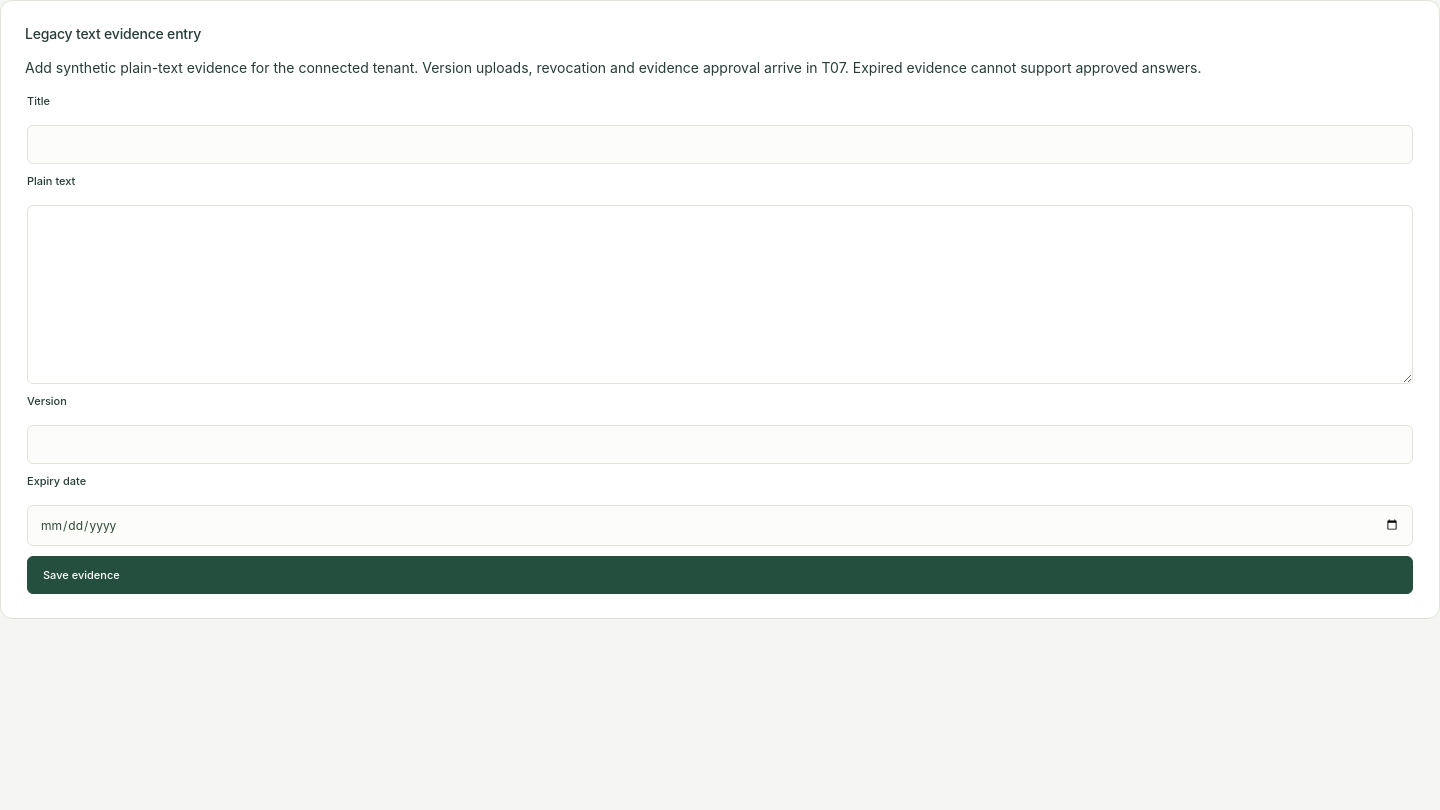
retains evidence on API failure
The image size is (1440, 810).
Type "Policy" into the field labelled "Title". click: (720, 144)
box: [27, 125, 1413, 164]
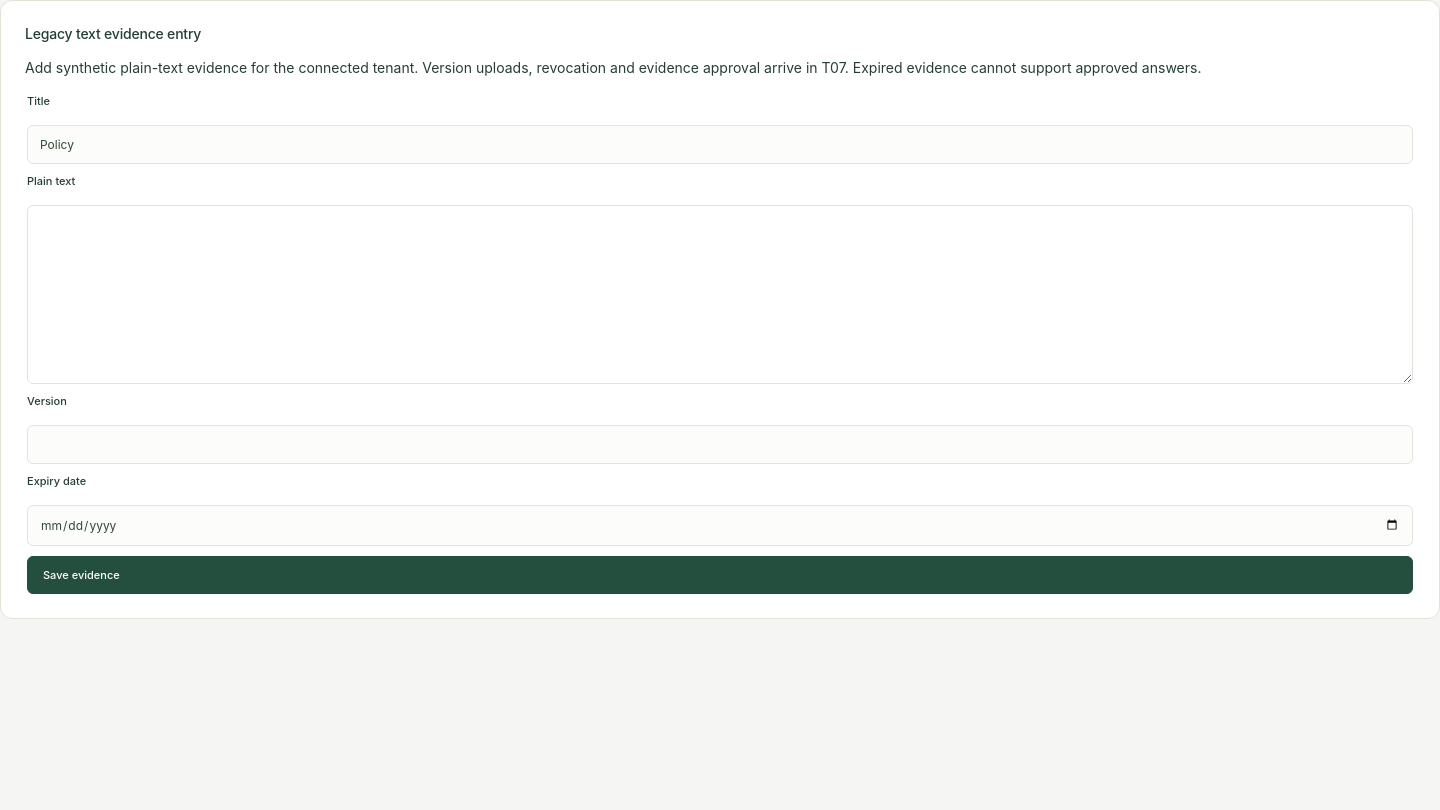
Type "Policy text" into the text box labelled "Plain text". click: (720, 294)
box: [27, 205, 1413, 384]
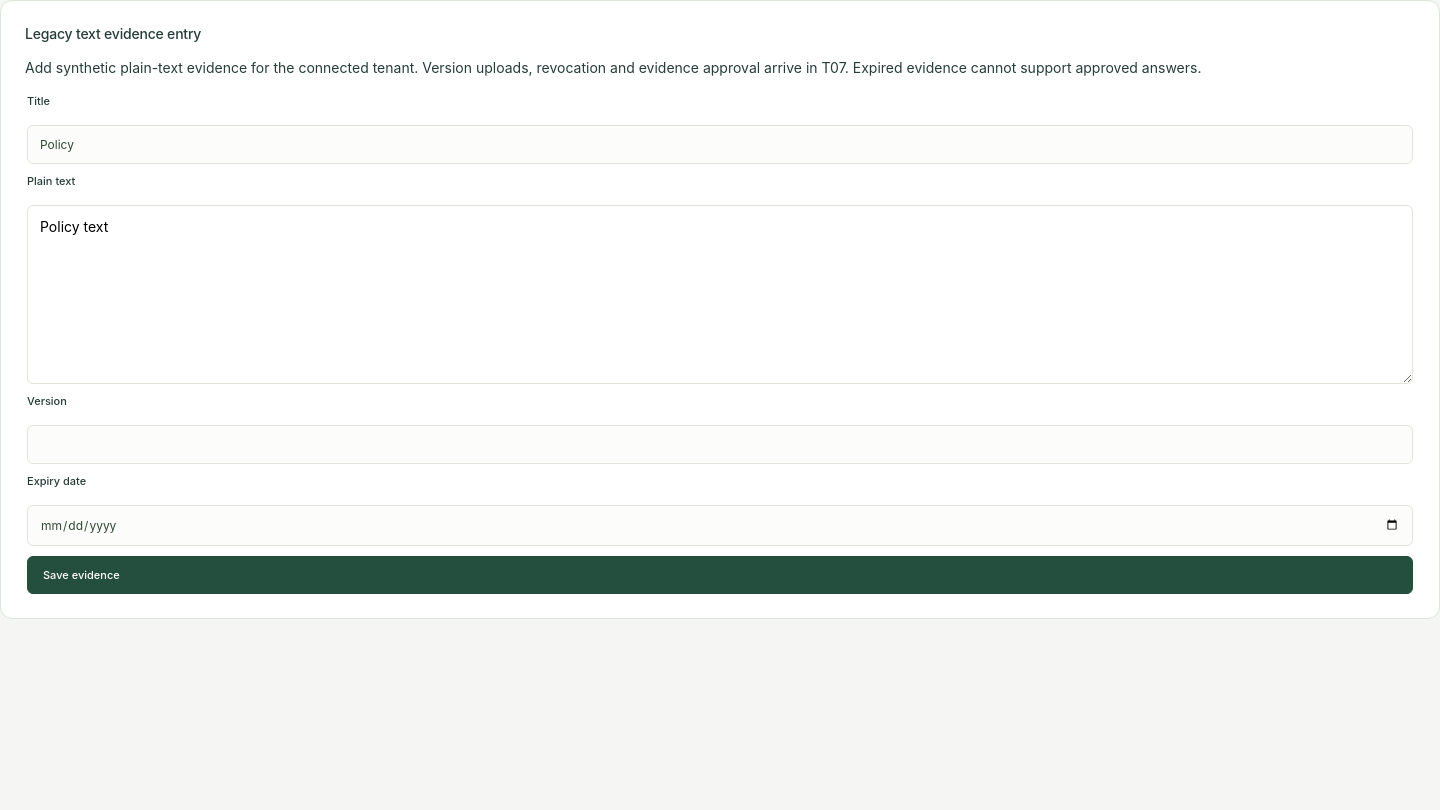
Type "1" into the field labelled "Version". click: (720, 444)
box: [27, 425, 1413, 464]
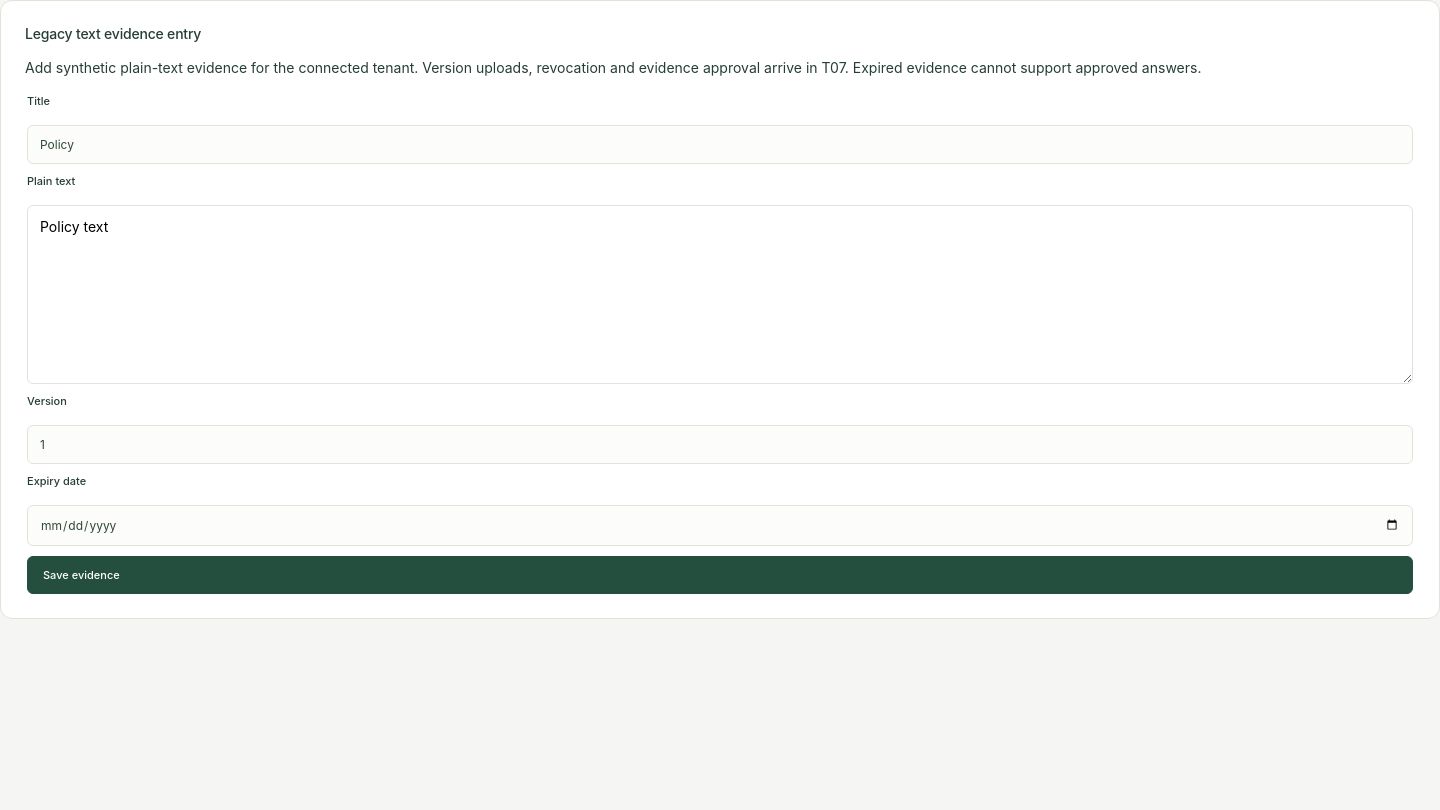
Type "2099-01-01" into the date field labelled "Expiry date". click: (720, 525)
box: [27, 505, 1413, 546]
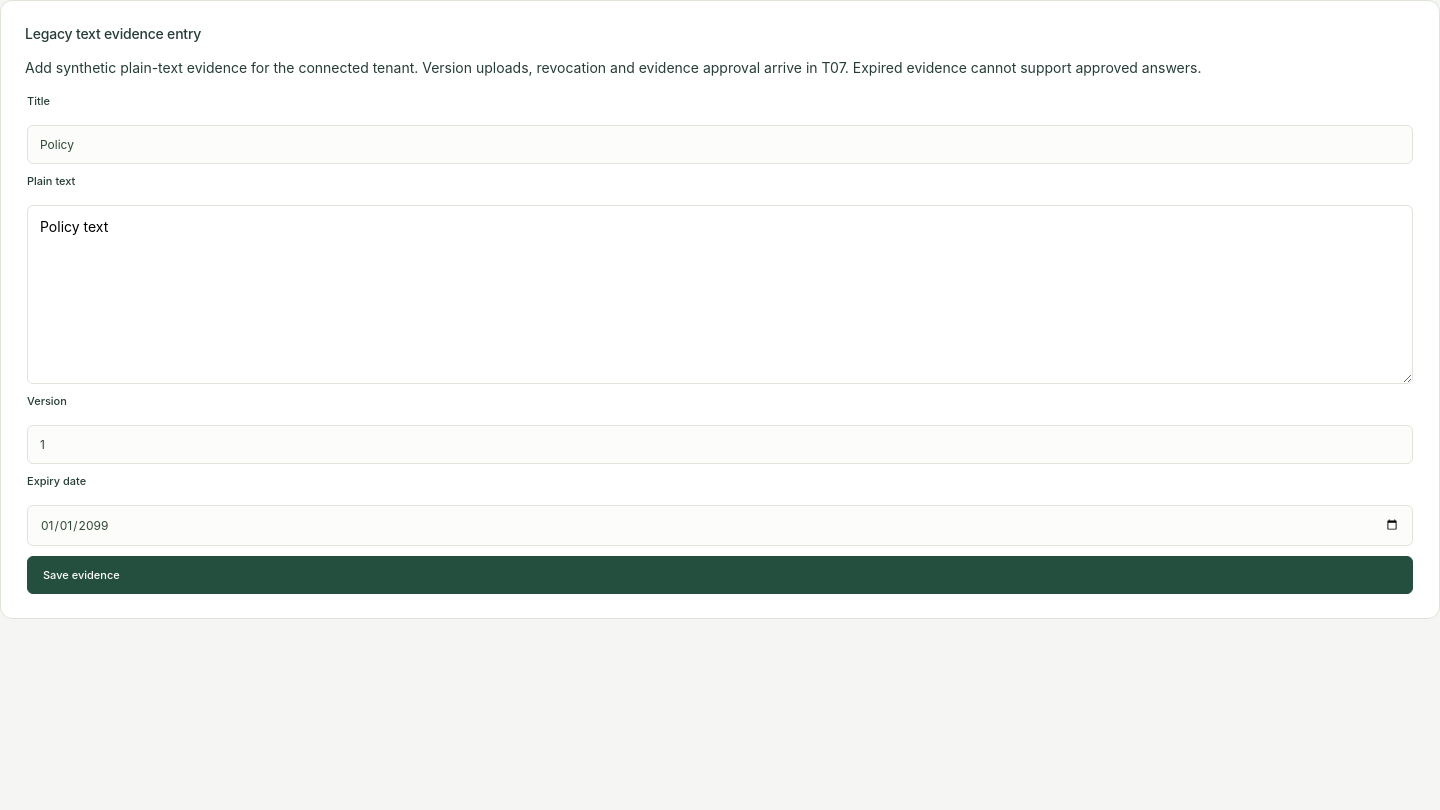
Click the button "Save evidence". click: click(81, 575)
box: [27, 556, 1413, 594]
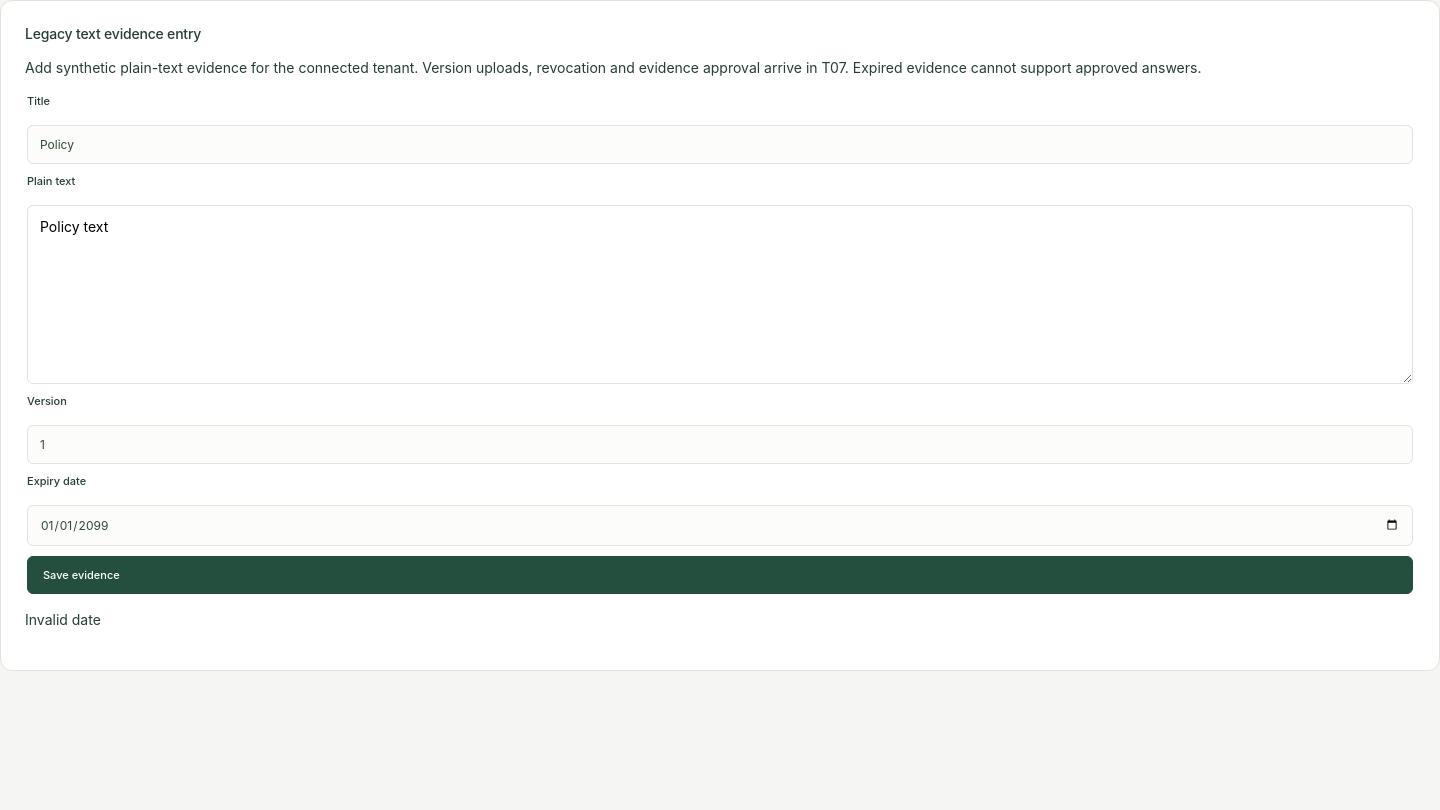
Now the message reads "Invalid date", box [25, 611, 101, 628]
